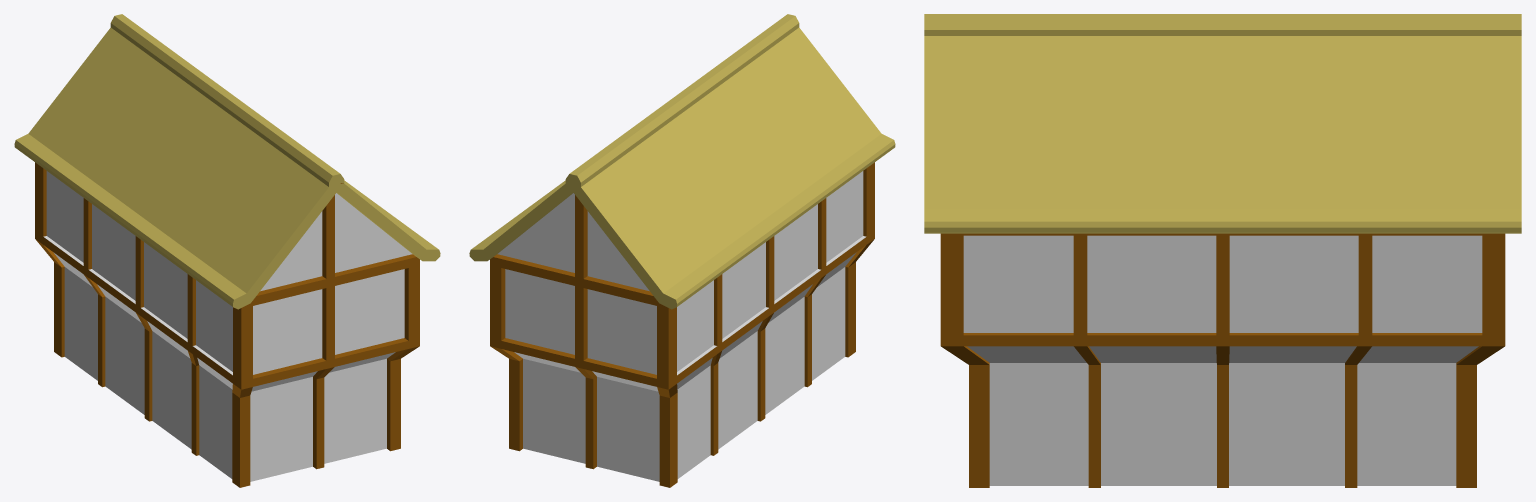
File: Rustic Inn.fbx
3 renders of one model, left to right at view 1: azimuth 30°, elevation 25°; view 2: azimuth 150°, elevation 25°; view 3: azimuth 270°, elevation 25°, orthographic. The views are drawn at different scales.
Parts seen in each view (by area): view 1: Cube; view 2: Cube; view 3: Cube.
Part boxes in pixels (left/top/right/bottom): Cube: left=14, top=14, right=440, bottom=487; Cube: left=469, top=14, right=895, bottom=487; Cube: left=924, top=14, right=1521, bottom=487.
Size of the model in its own units: 483 by 679 by 880.
